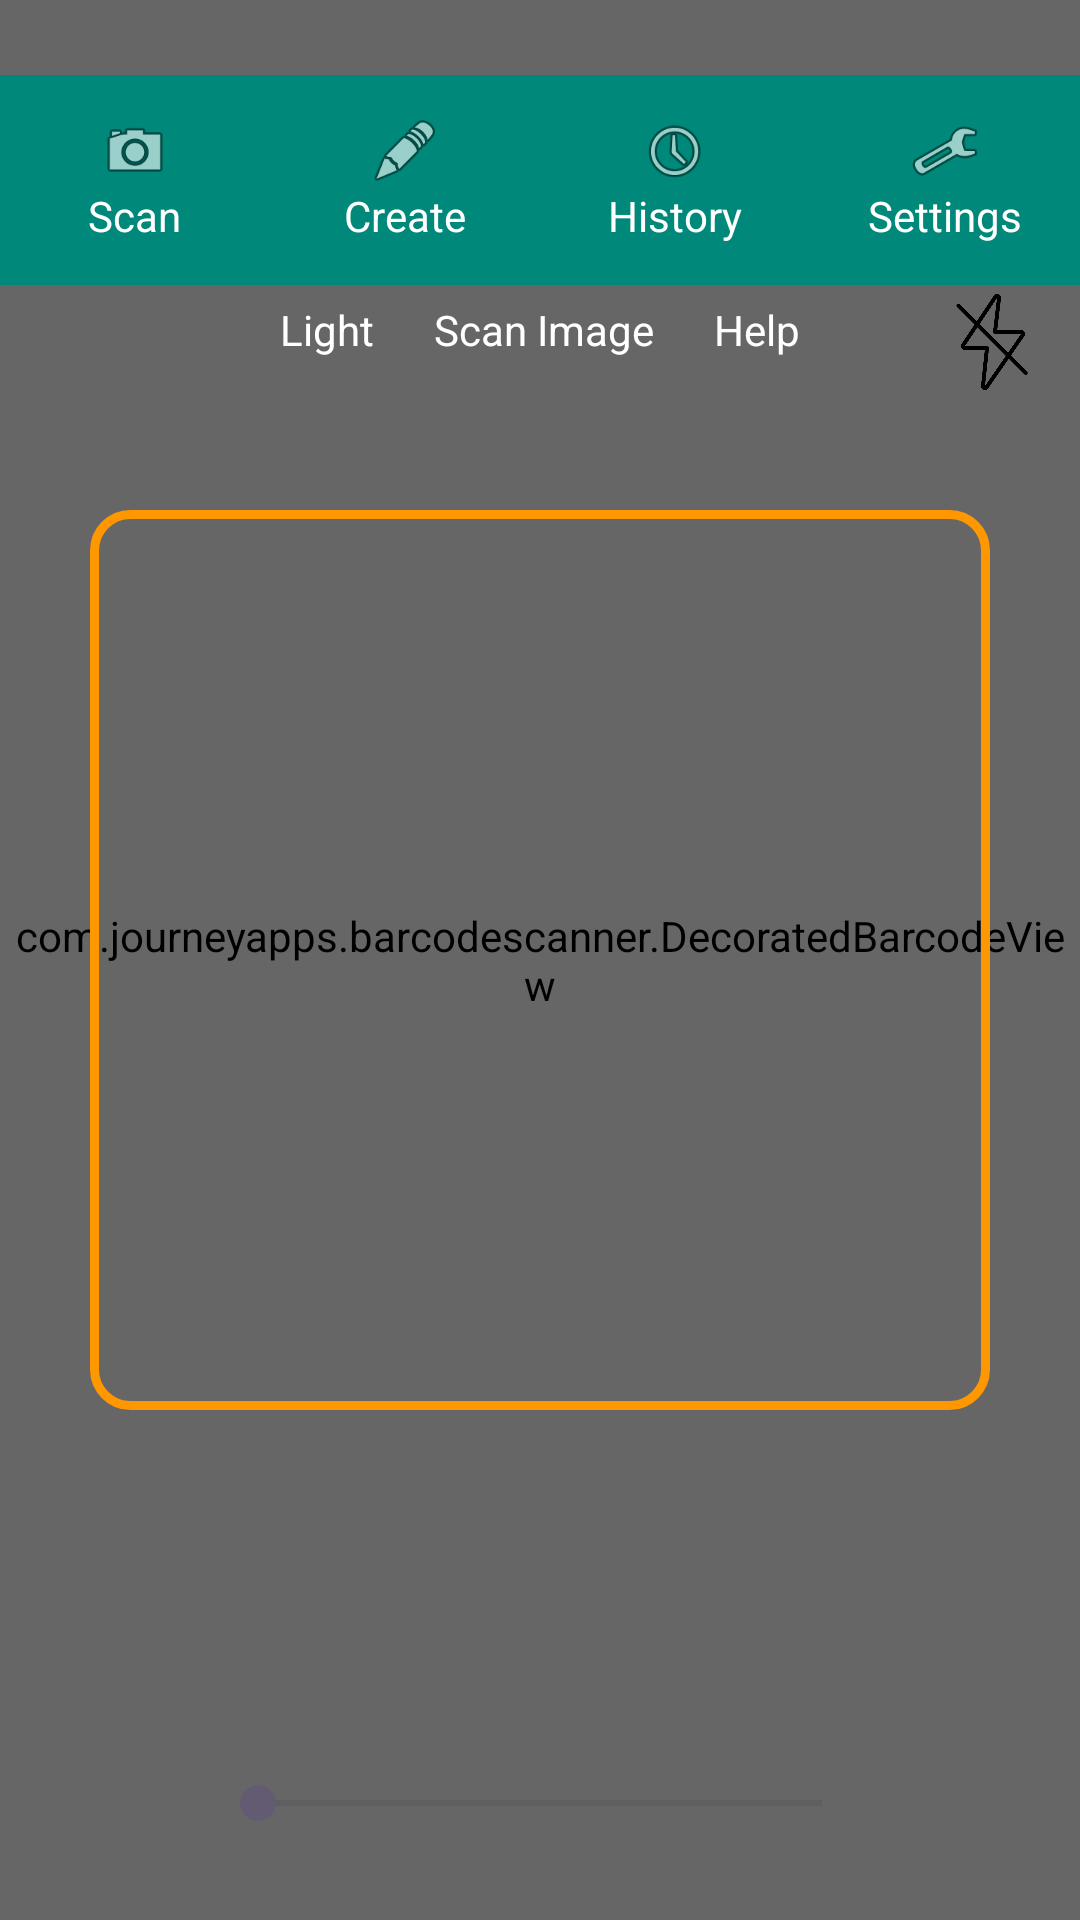

Icons on this 1080w x 1920h Android screen, each with the point to tap as [x,y]:
camera: [135,150]
edit: [404,150]
manage: [945,151]
